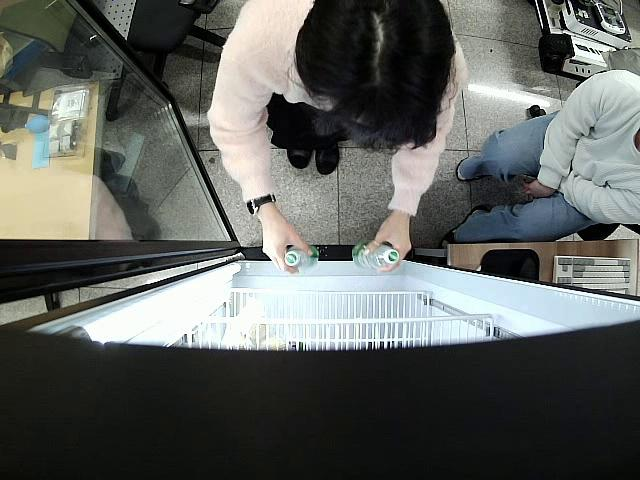00_hand: (261, 219, 312, 279), (365, 216, 412, 275)
18_trevi: (351, 239, 399, 273), (286, 244, 319, 271)
